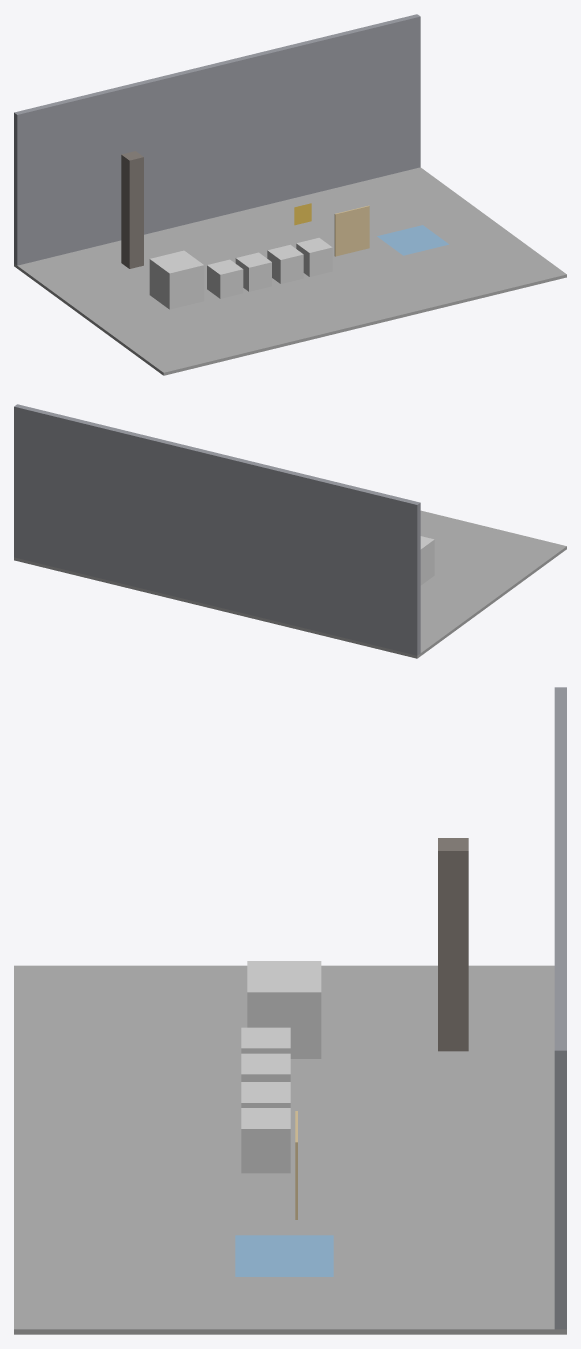
File: shader_hooks_fixture_bare.gltf
3 renders of one model, top to bottom at view 1: azimuth 30°, elevation 25°; view 2: azimuth 150°, elevation 25°; view 3: azimuth 270°, elevation 25°, orthographic. The views are drawn at different scales.
Visible parts, largest first — view 1: wall, floor, stripes, post, card, dome, key_a, param_a, param_b, key_b; view 2: wall, floor, stripes; view 3: floor, wall, post, stripes, dome, param_b, key_b, key_a, param_a.
Boxes of the visible parts, x1,y1,x2,y2 form: wall: (14, 14, 420, 265); floor: (14, 167, 566, 375); stripes: (149, 250, 204, 309); post: (121, 151, 143, 268); card: (334, 205, 369, 256); dome: (377, 225, 448, 255); key_a: (207, 259, 243, 298); param_a: (267, 244, 303, 283); param_b: (296, 238, 332, 276); key_b: (235, 252, 271, 291); wall: (14, 404, 420, 655); floor: (14, 510, 566, 658); stripes: (420, 536, 434, 585); floor: (14, 965, 566, 1334); wall: (554, 687, 566, 1329); post: (438, 838, 468, 1051); stripes: (247, 961, 321, 1058); dome: (235, 1235, 333, 1276); param_b: (241, 1108, 290, 1173); key_b: (241, 1053, 290, 1081); key_a: (241, 1027, 290, 1053); param_a: (241, 1082, 290, 1107).
Size of the model in its own units: 14 by 5.1 by 9.
